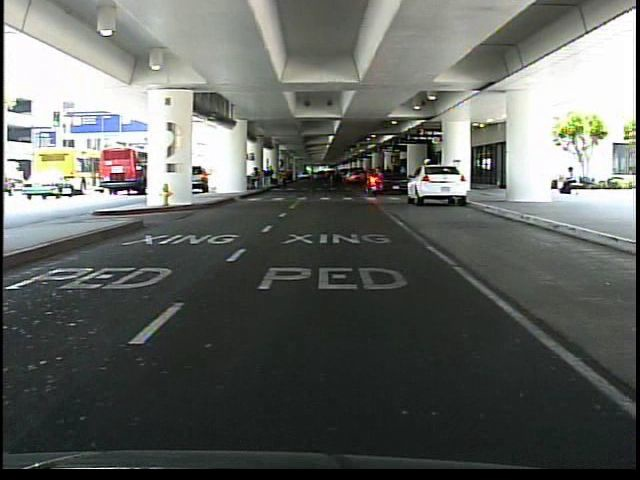person: (553, 162, 580, 199), (419, 154, 436, 202)
